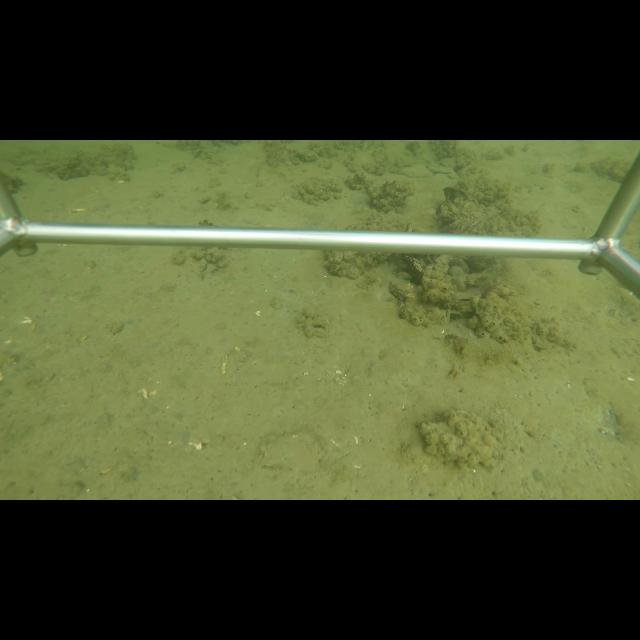Oyster-Closed: (386, 279, 419, 295), (469, 265, 493, 283), (197, 257, 208, 278)
